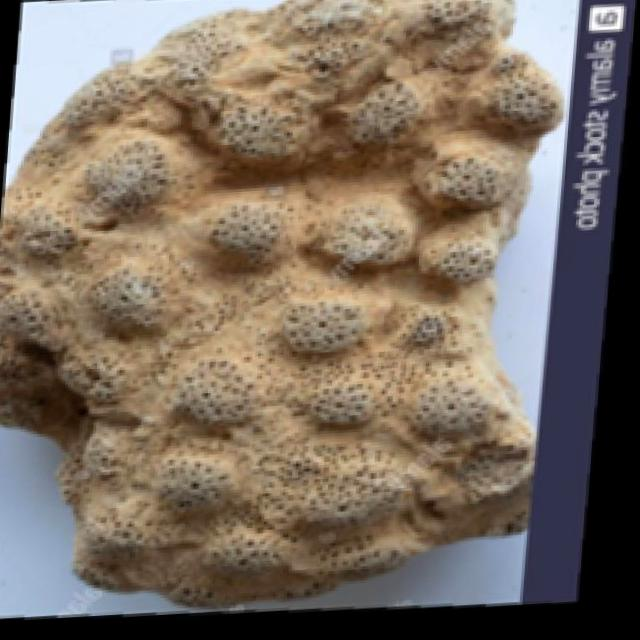Dead Coral: (13, 16, 533, 576)
